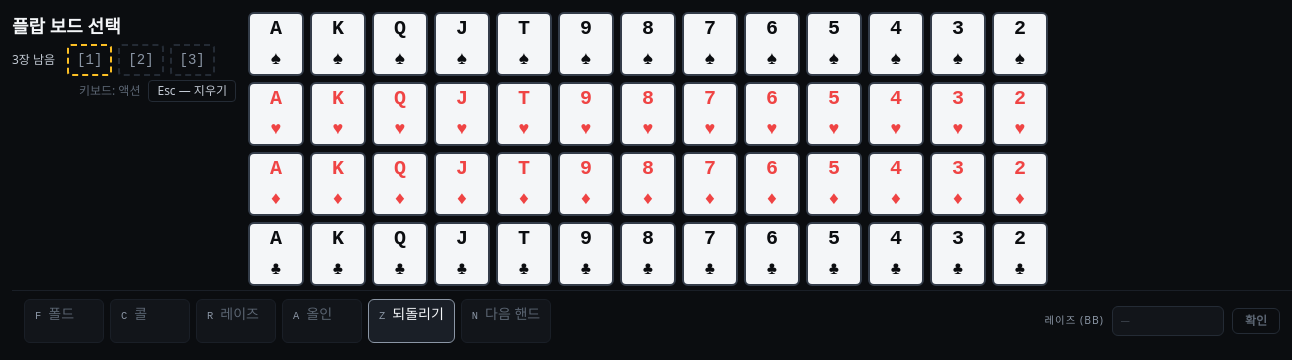
Scenario: CardPalette — the board › disables a board card that is already on the board
The image size is (1292, 360).
Click the button with test id "palette-2c": (1020,254) [992, 222, 1048, 286]
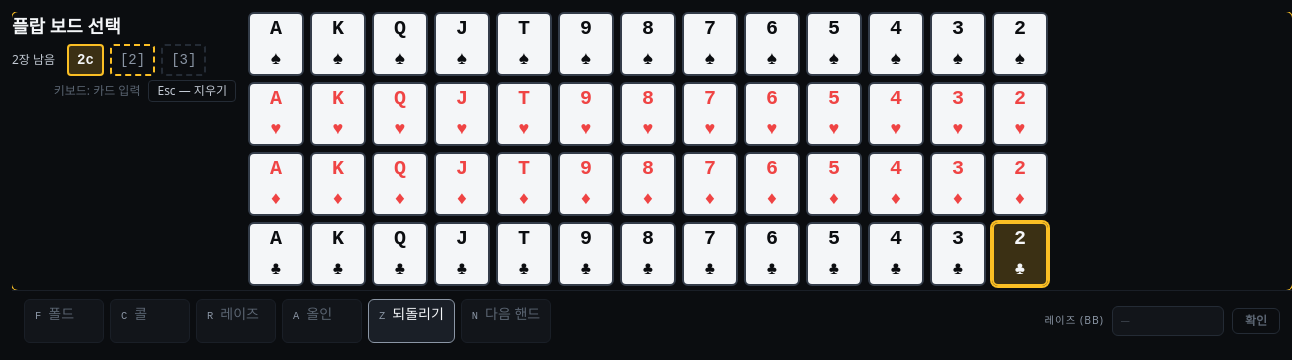
Click the button with test id "palette-7d": (710,184) [682, 152, 738, 216]
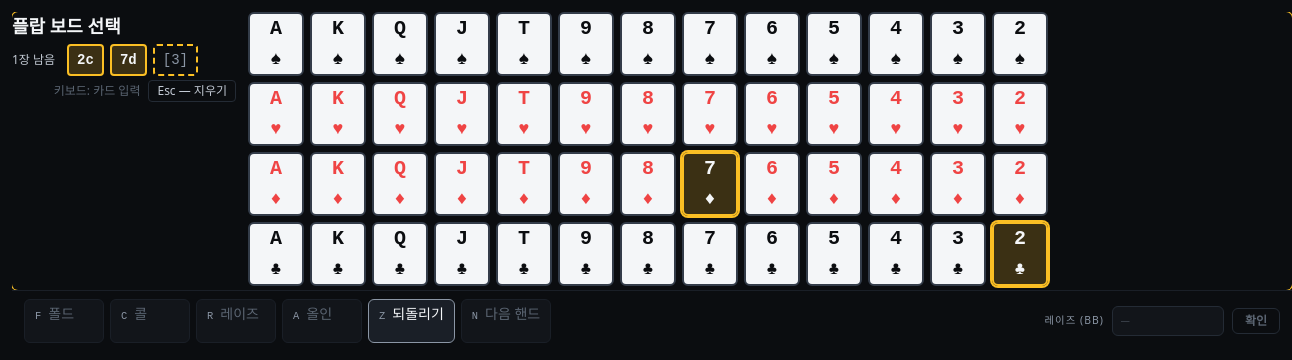
Click the button "9 ♥": (586,114) [558, 82, 614, 146]
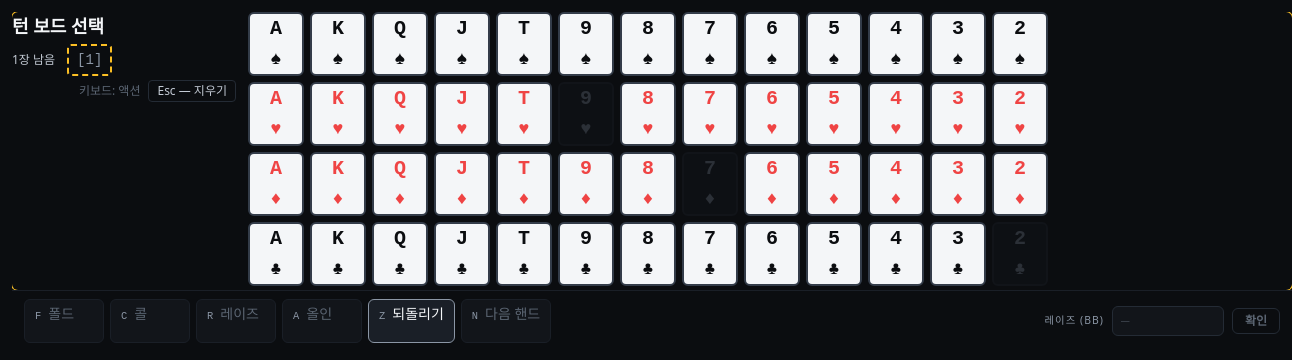
Expected: the button with test id "palette-2c" is disabled, [992, 222, 1048, 286]
